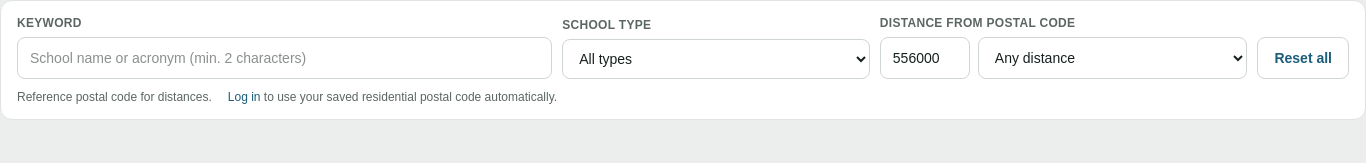
Scenario: SchoolFilterBar (REQ-1.1 to REQ-1.5, REQ-1.15) › keyword validation › asks for at least two characters
Type "N" into the field labelled "Keyword" at (285, 58), box [17, 37, 552, 79]
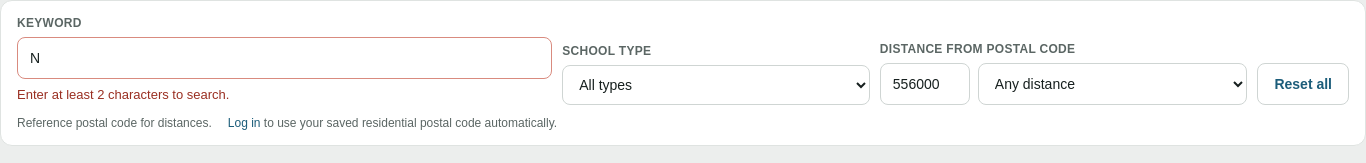
Check: the message "Enter at least 2 characters to search." is shown, box [17, 87, 229, 102]
